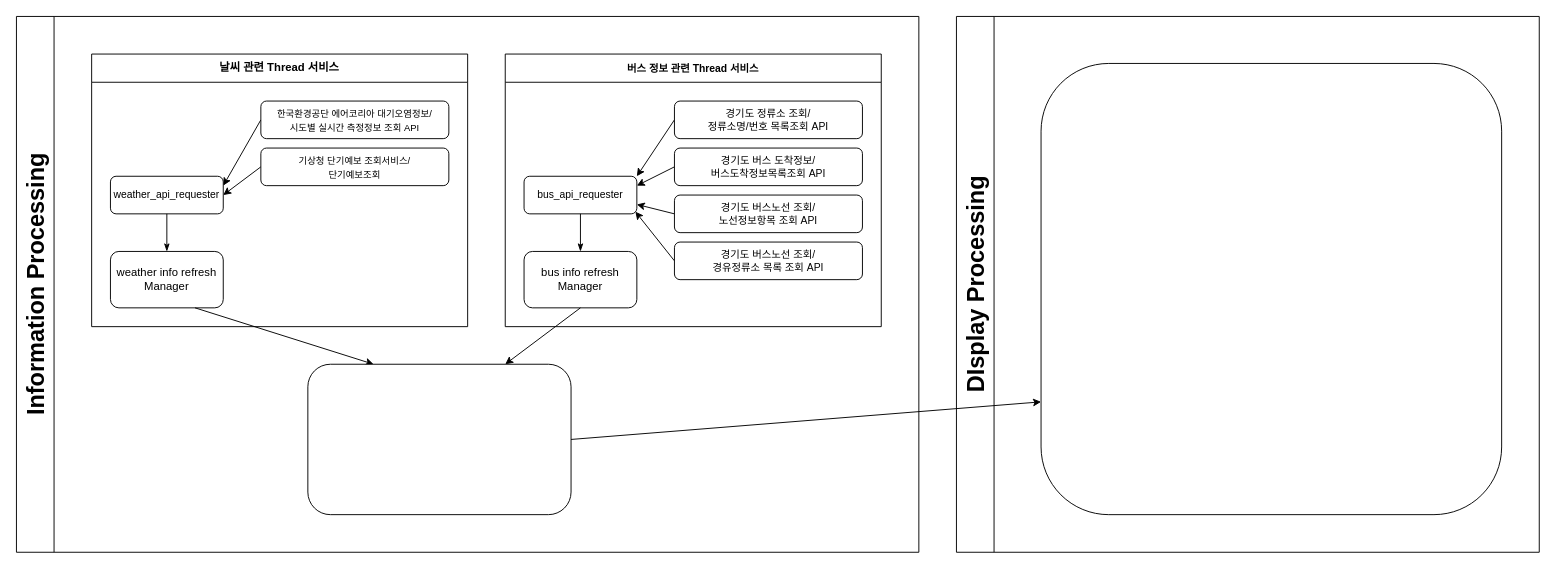
This 1556x569 diagram has some shape labels left out. Here are the shapes that lost their labels. From the top down, the centre of each, then its label:
the point at 1271,289: RGB Matrix Manager
the point at 439,439: Screen Generator
